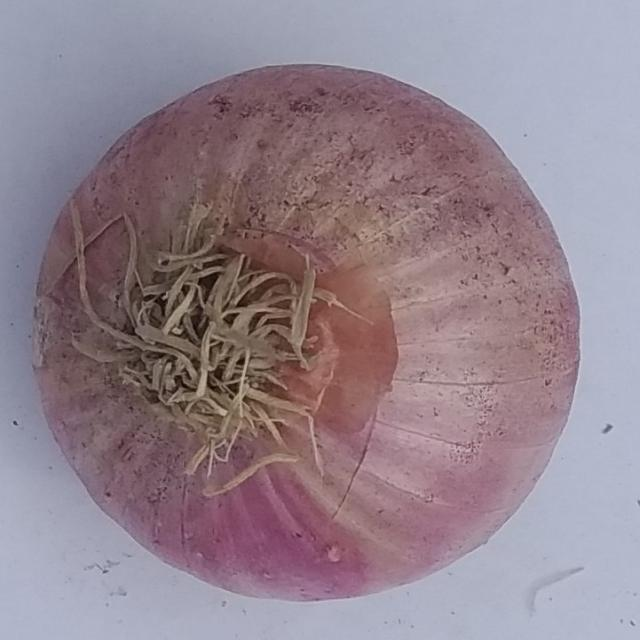onion: (28, 59, 583, 606)
